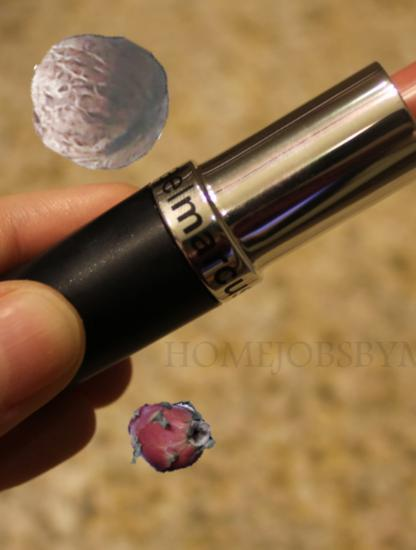Pitahaya: (125, 390, 218, 483)
Walnut: (27, 28, 171, 172)
